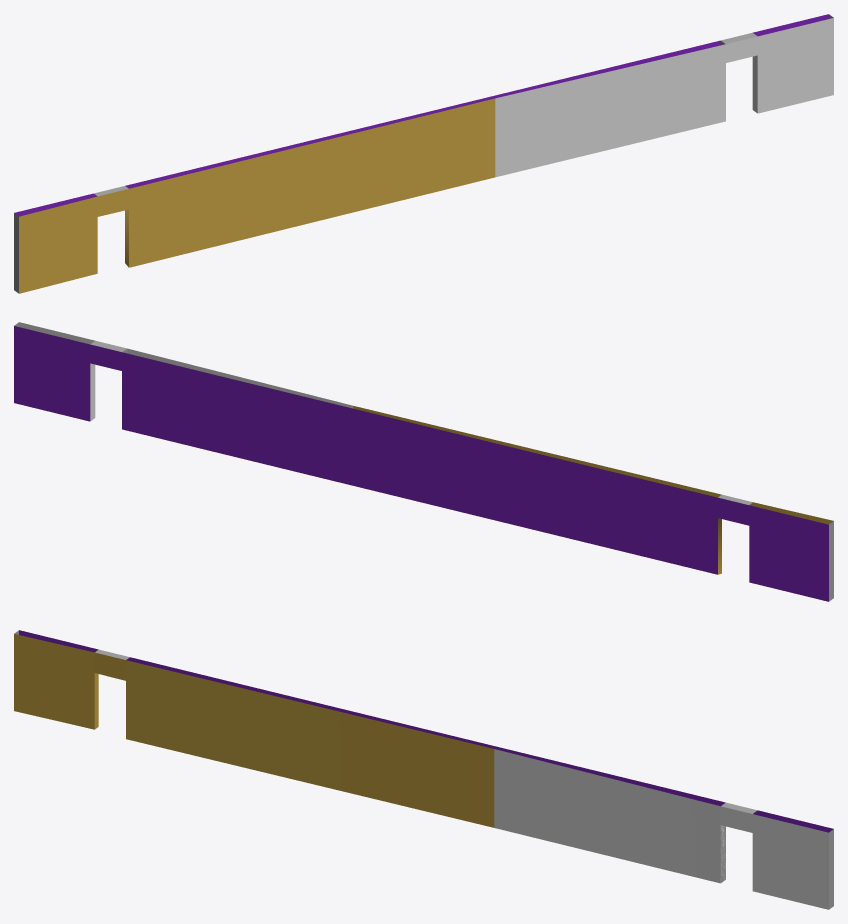
Rendered from SM_HallwayMiddleWall_3_1.fbx.
3 views of the same model, one above another, from view 1: azimuth 30°, elevation 25°; view 2: azimuth 150°, elevation 25°; view 3: azimuth 330°, elevation 25° (orthographic).
Parts seen in each view (by area): view 1: SM_HallwayMiddleWall_3_1; view 2: SM_HallwayMiddleWall_3_1; view 3: SM_HallwayMiddleWall_3_1.
Boxes of the visible parts, x1,y1,x2,y2 form: SM_HallwayMiddleWall_3_1: (14, 14, 833, 293); SM_HallwayMiddleWall_3_1: (14, 322, 833, 601); SM_HallwayMiddleWall_3_1: (14, 630, 833, 909).
Size of the model in its own units: 5489 by 509 by 60.
